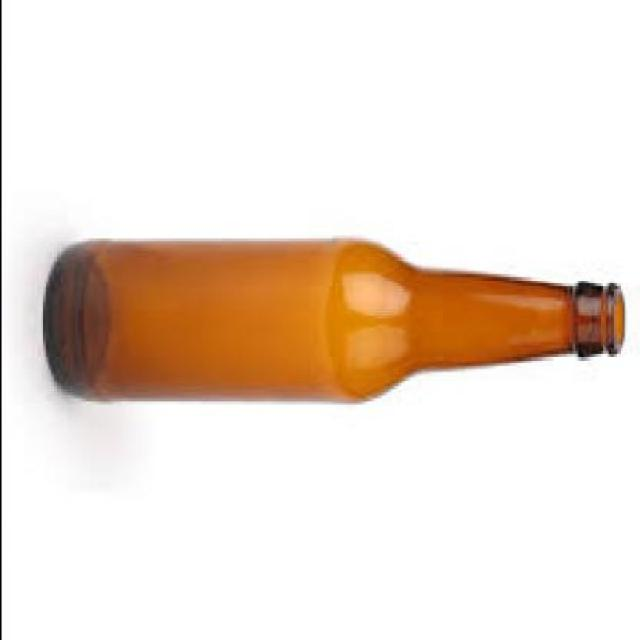GLASS: (45, 242, 629, 408)
